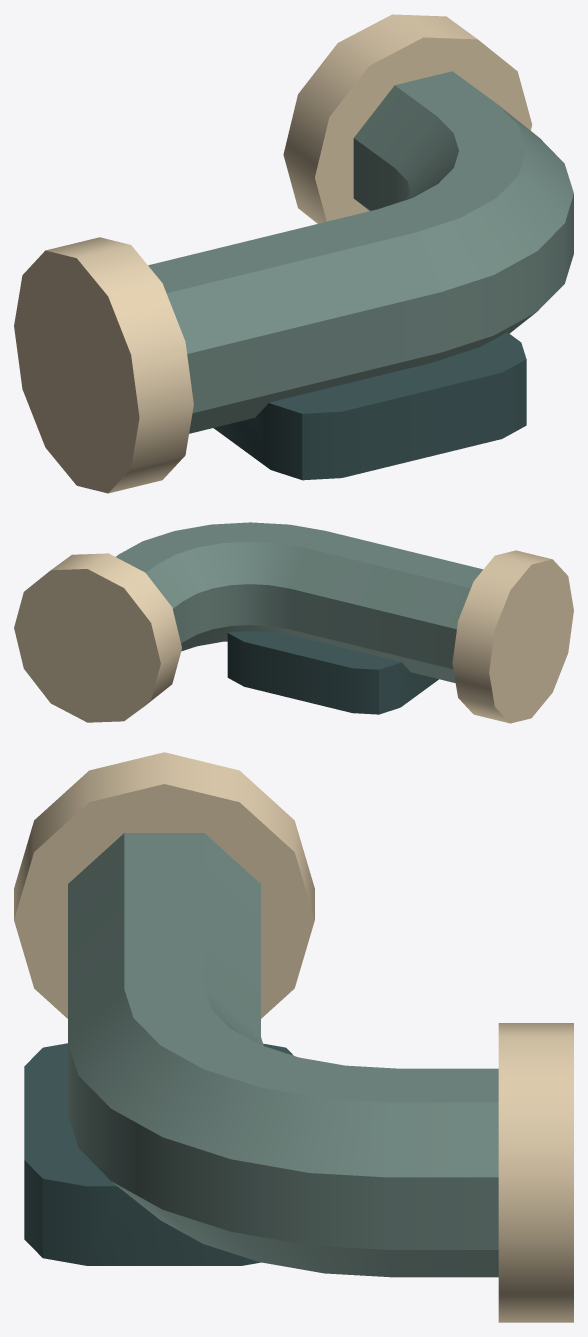
The model's file is pipe-kit-elbow.glb.
The picture shows the model from 3 angles, top to bottom: view 1: azimuth 30°, elevation 25°; view 2: azimuth 150°, elevation 25°; view 3: azimuth 270°, elevation 25°; orthographic projection. The views are drawn at different scales.
Parts seen in each view (by area): view 1: pipe-kit-elbow; view 2: pipe-kit-elbow; view 3: pipe-kit-elbow.
Boxes of the visible parts, left/top/right/bottom form: pipe-kit-elbow: left=14, top=14, right=573, bottom=493; pipe-kit-elbow: left=14, top=522, right=573, bottom=723; pipe-kit-elbow: left=14, top=752, right=573, bottom=1322.
Size of the model in its own units: 1.97 by 0.72 by 1.34.
Materials: 1 (1 with a texture image).
